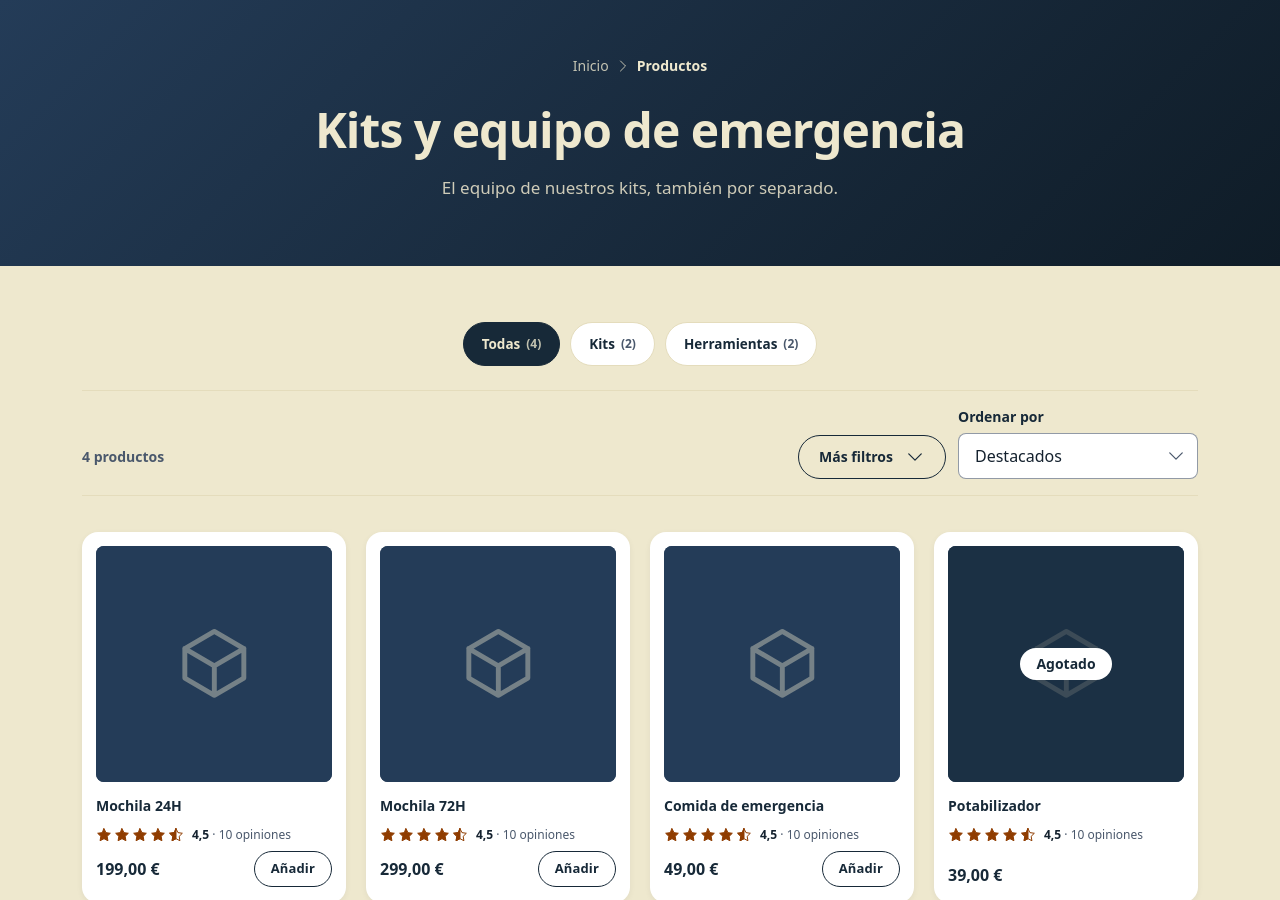
Test: CatalogView › filters by category, updates the heading and syncs the URL
Click the link "Herramientas (2)" at (741, 344), box [665, 322, 817, 366]
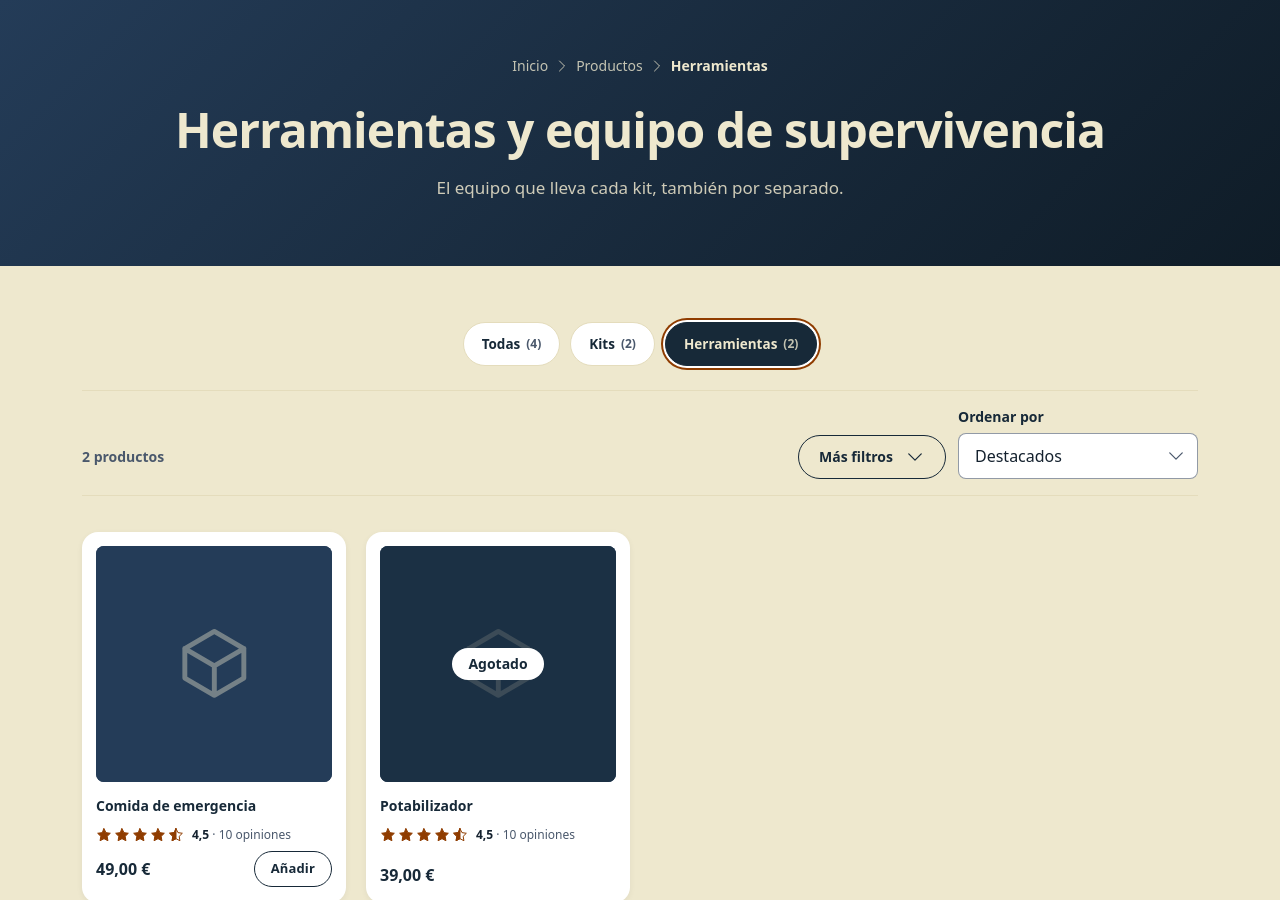
Now the heading "Herramientas y equipo de supervivencia" is shown, box [175, 97, 1105, 162]
Now the text "2 productos" is shown, box [82, 447, 164, 466]
Now the link "Mochila 24H" is gone
